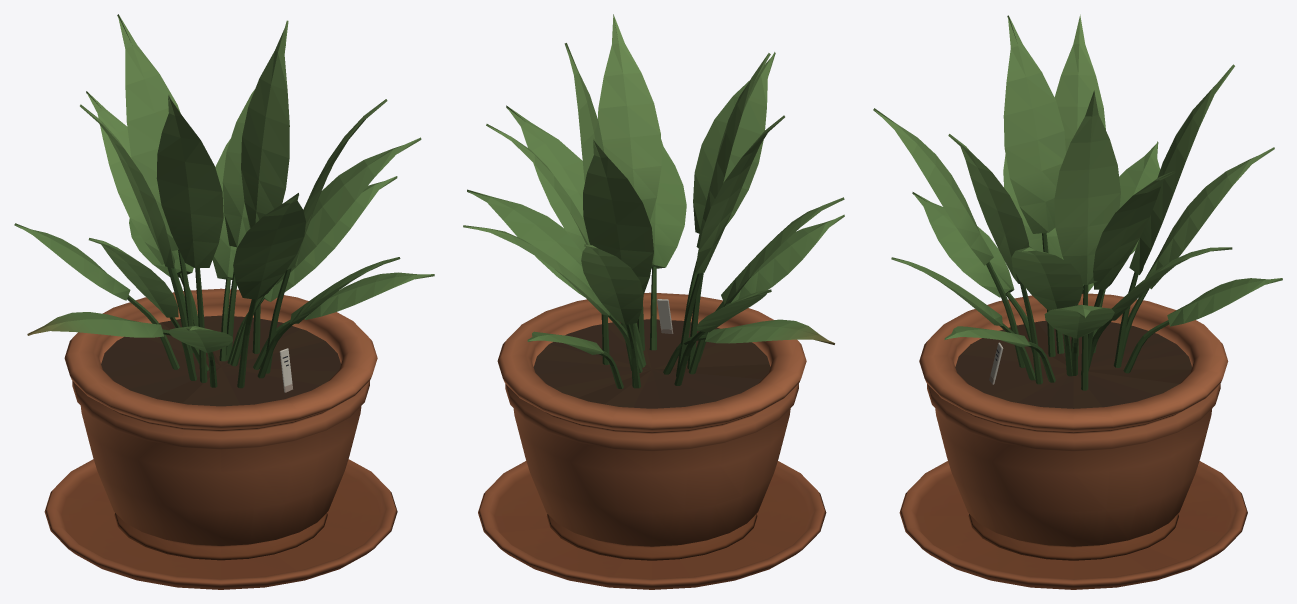
File: library-potted-plant.glb
3 renders of one model, left to right at view 1: azimuth 30°, elevation 25°; view 2: azimuth 150°, elevation 25°; view 3: azimuth 270°, elevation 25°, orthographic.
Parts seen in each view (by area): view 1: library_potted_plant; view 2: library_potted_plant; view 3: library_potted_plant.
Boxes of the visible parts, bbox=[...] form: library_potted_plant: bbox=[14, 14, 434, 589]; library_potted_plant: bbox=[463, 14, 844, 589]; library_potted_plant: bbox=[873, 14, 1282, 589].
Size of the model in its own units: 0.7838 by 0.956 by 0.7586.
